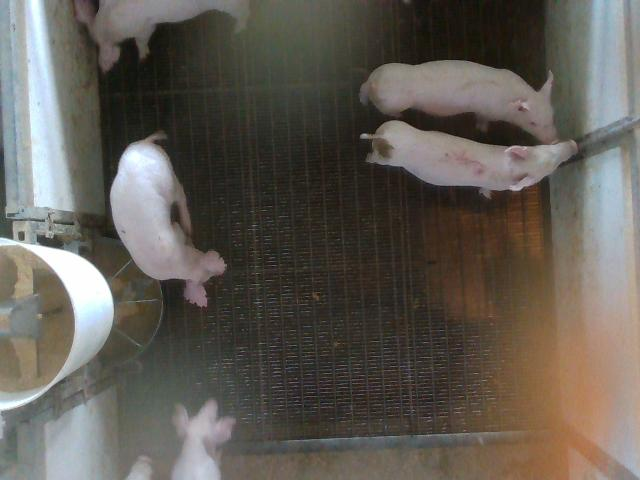pig-5: (361, 120, 578, 196)
